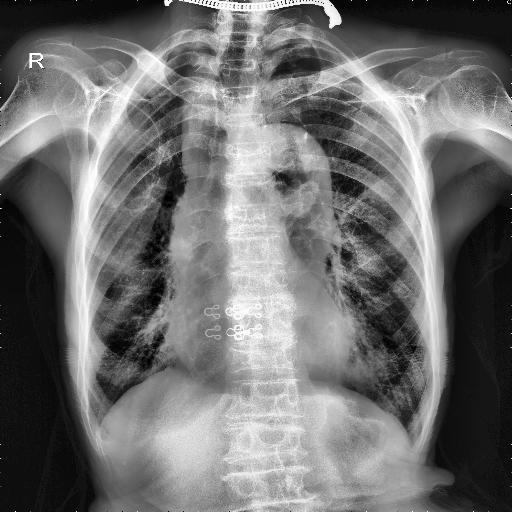0- Aortic enlargement: (248, 122, 332, 217), (254, 122, 332, 218), (260, 126, 334, 204)
